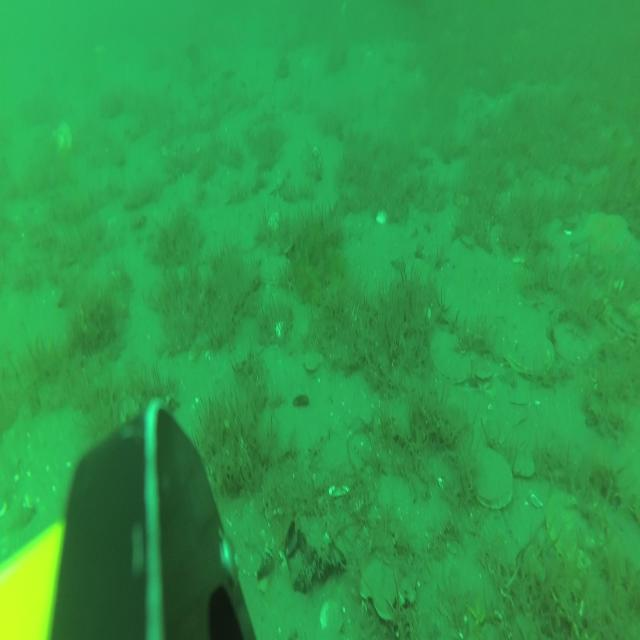scallop: (546, 487, 592, 561), (469, 448, 514, 508), (504, 325, 554, 376), (431, 328, 473, 384), (555, 326, 591, 365), (606, 302, 640, 339), (261, 254, 291, 286), (320, 600, 344, 634), (51, 123, 73, 153), (511, 451, 535, 478), (344, 214, 368, 238), (303, 350, 325, 372), (475, 365, 493, 382)
starfish: (573, 212, 638, 270)
